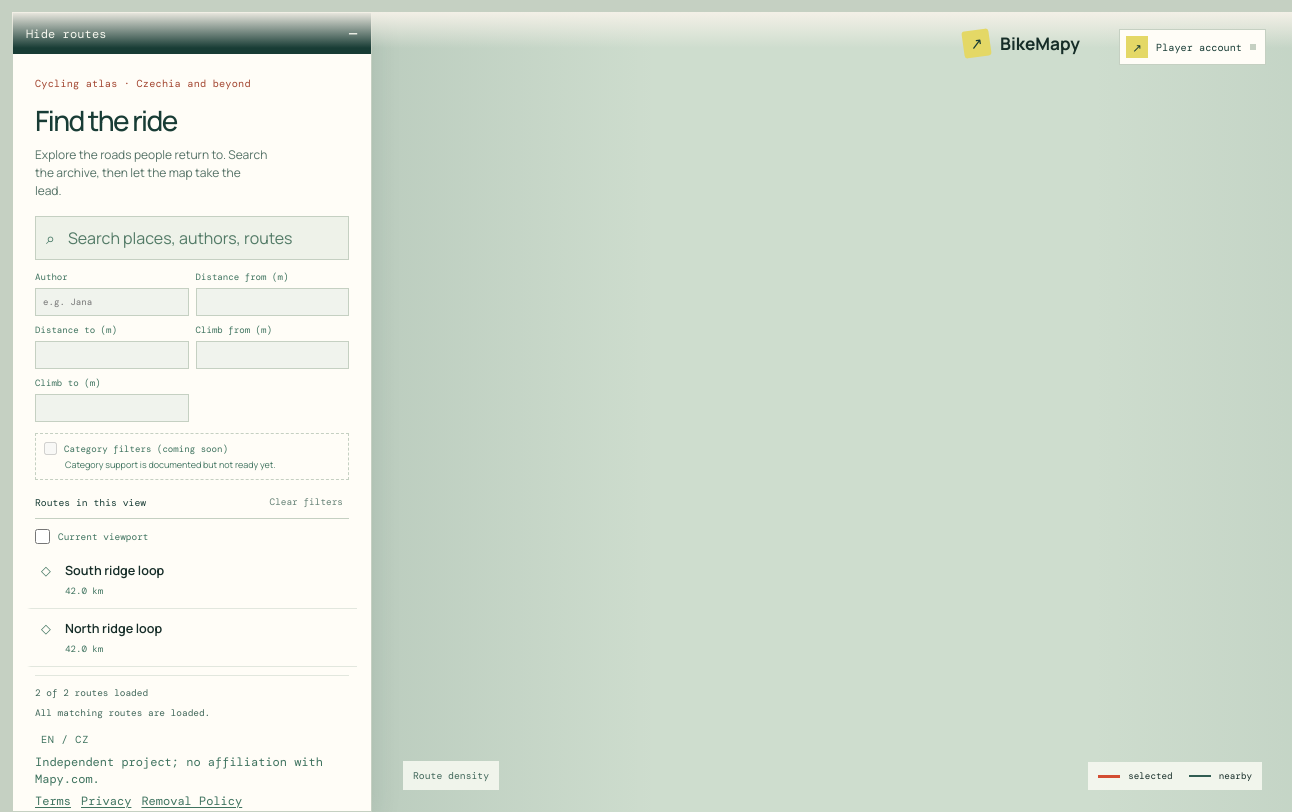
it: BikeMapy route discovery › sends text and numeric filters and can clear them
Type "ridge" into the search field named "search routes" at {"x": 202, "y": 238}, box [66, 226, 338, 250]
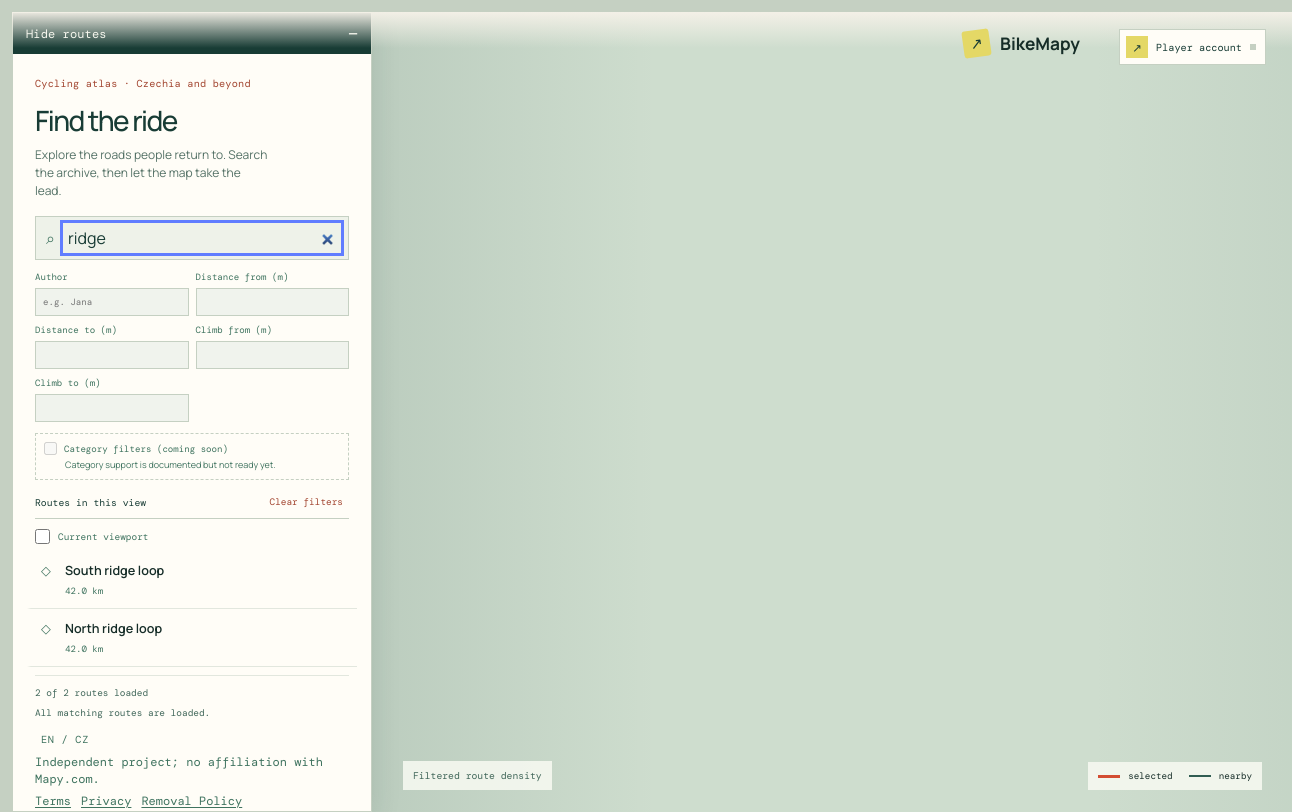
Type "Jana" into the field labelled "Author" at {"x": 112, "y": 302}, box [35, 288, 188, 316]
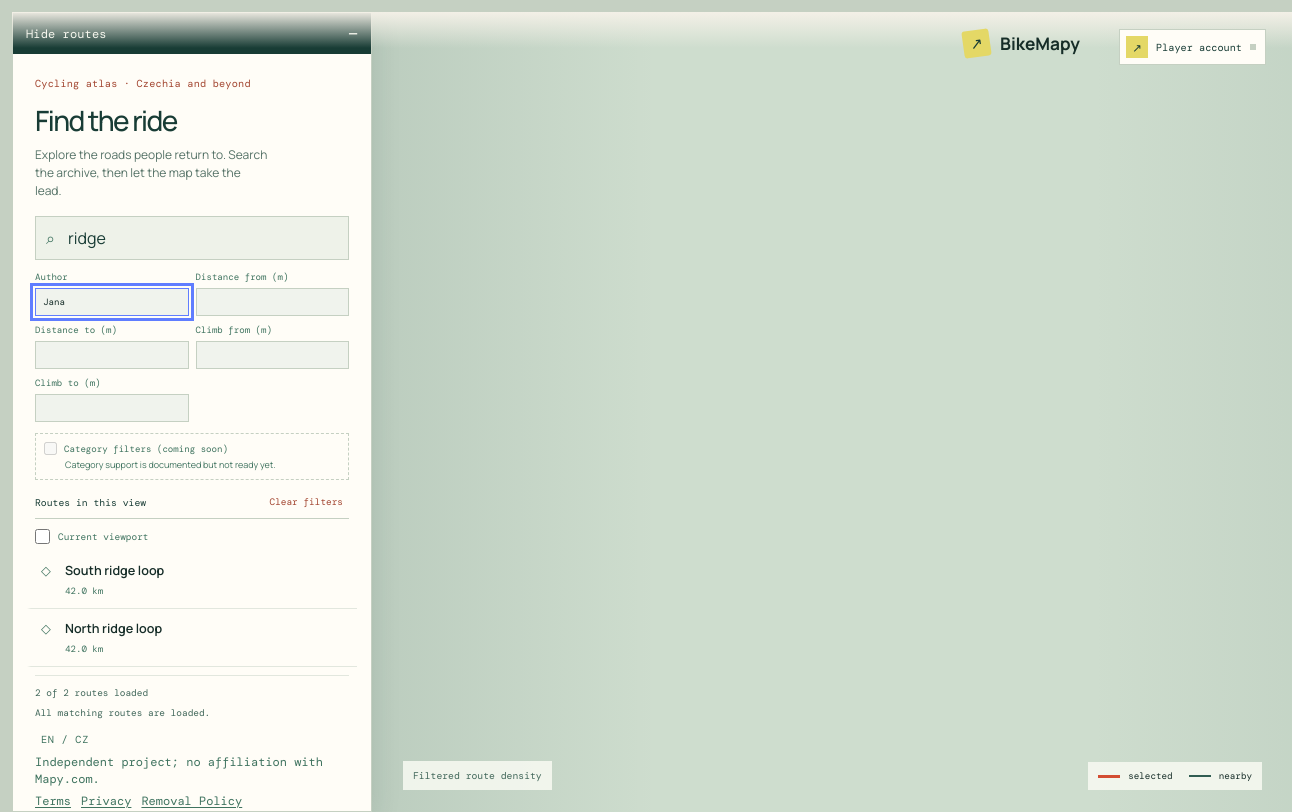
Click the button "Clear filters" at {"x": 306, "y": 502}, box [264, 495, 349, 509]
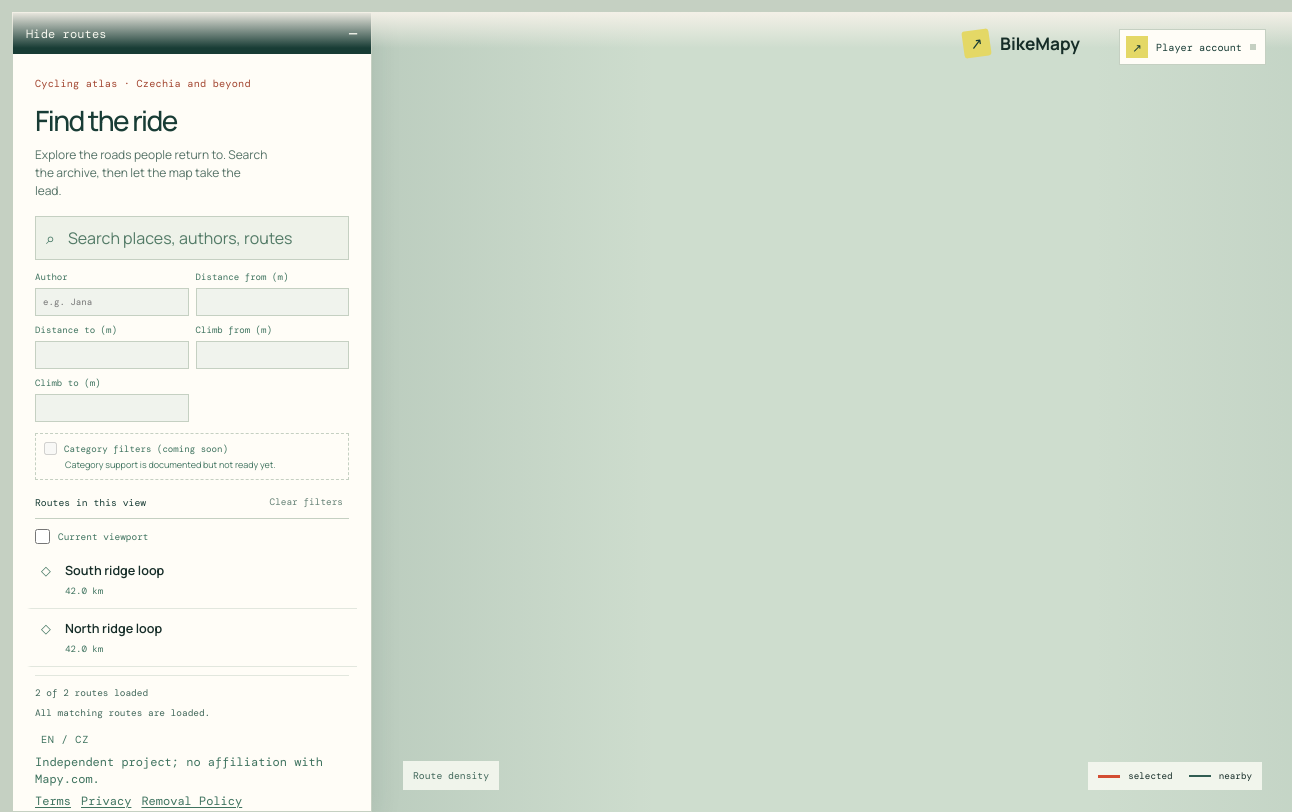
Expected: the search field named "search routes" is empty, [66, 226, 338, 250]
Expected: the field labelled "Author" is empty, [35, 288, 188, 316]
